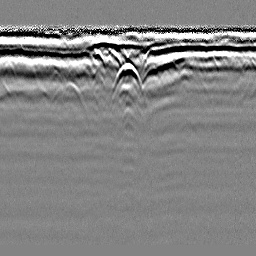cavity: (111, 60, 145, 97)
